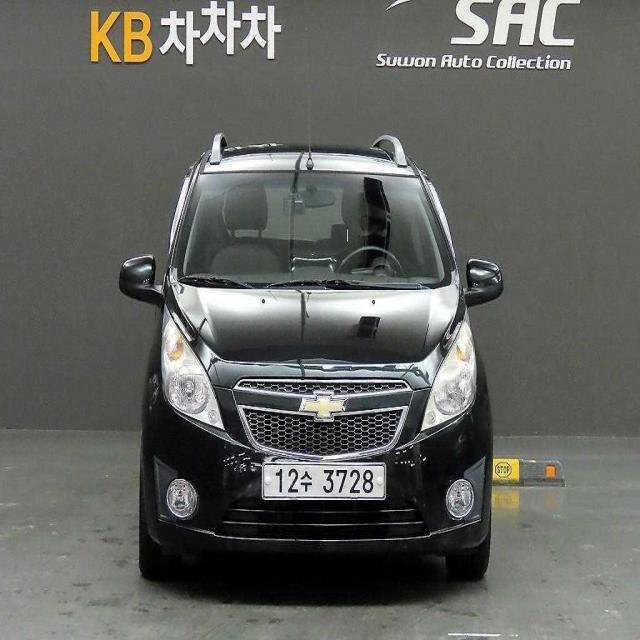car: (114, 125, 509, 608)
illegal_plate: (261, 462, 389, 512)
